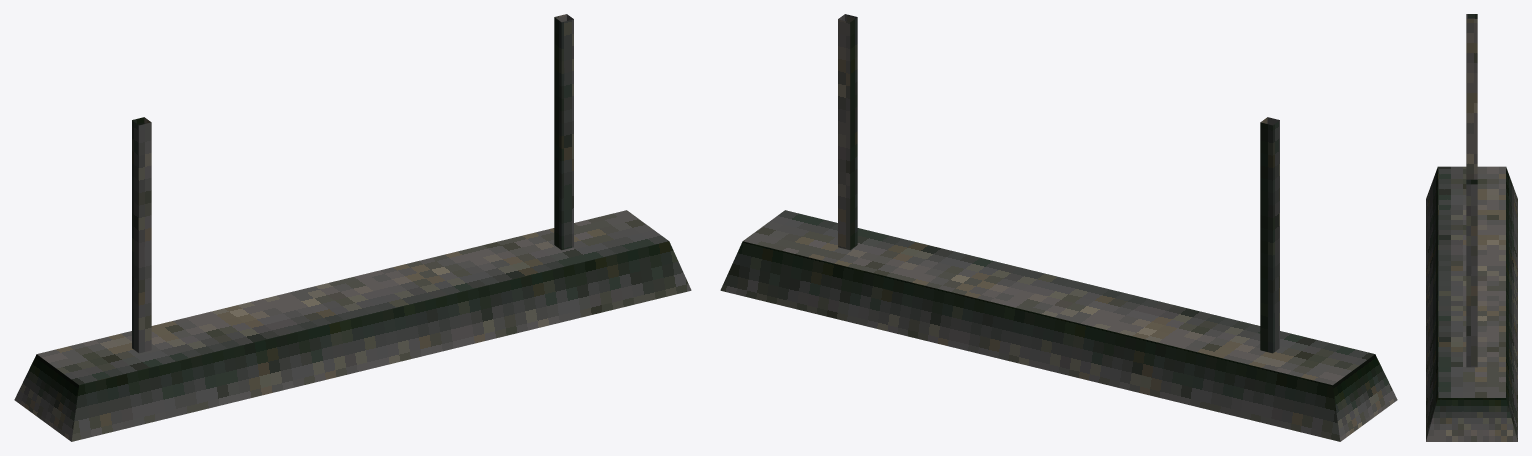
File: SM_LIGHT_05.fbx
3 views of the same model, side by side, from view 1: azimuth 30°, elevation 25°; view 2: azimuth 150°, elevation 25°; view 3: azimuth 270°, elevation 25° (orthographic). The views are drawn at different scales.
Visible parts, largest first — view 1: SM_LIGHT_05; view 2: SM_LIGHT_05; view 3: SM_LIGHT_05.
Part boxes in pixels (box(x1,y1,x2,y2)): SM_LIGHT_05: box(14, 14, 691, 441); SM_LIGHT_05: box(720, 14, 1397, 441); SM_LIGHT_05: box(1426, 14, 1517, 441).
Size of the model in its own units: 2.5 by 1.06 by 0.4.
